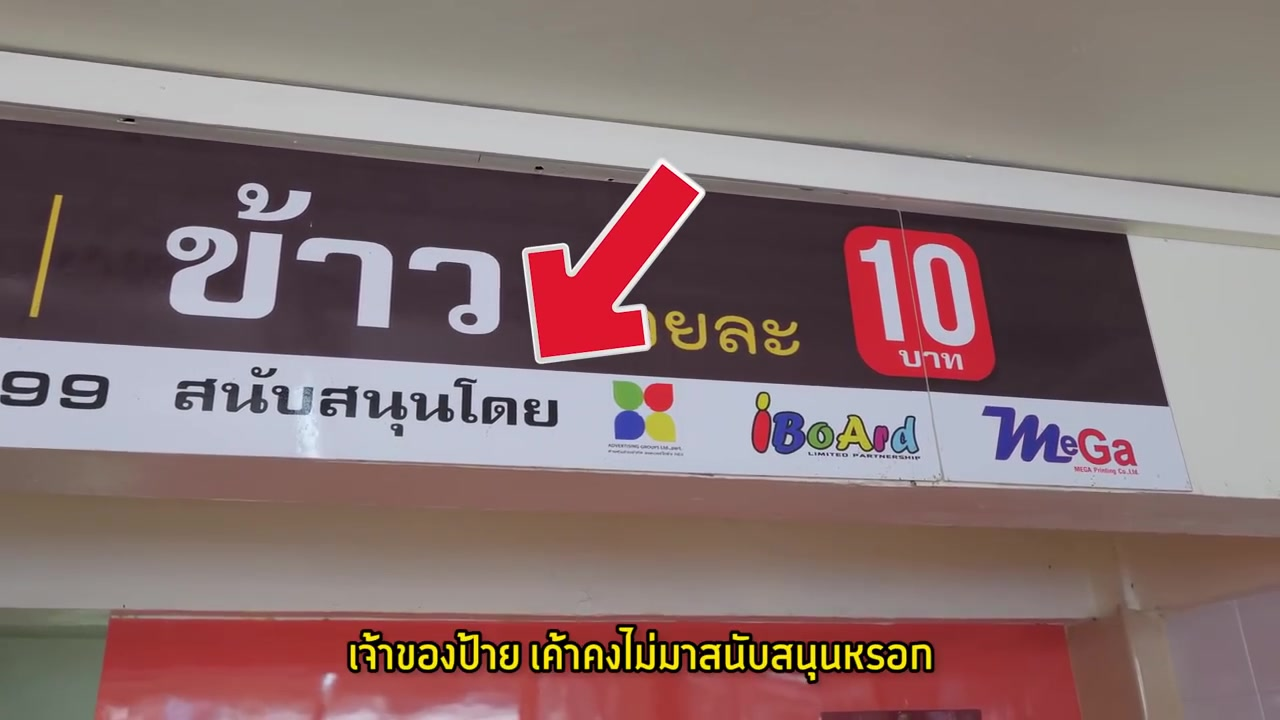text-label: (345, 620, 935, 683)
